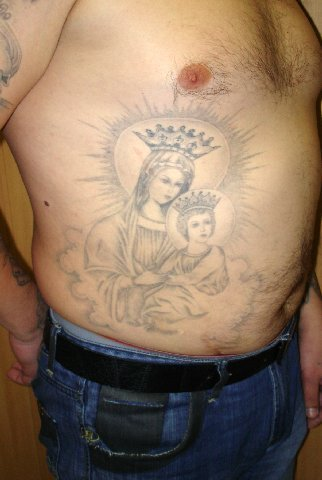tatu2_bogorodica: (85, 105, 240, 336)
